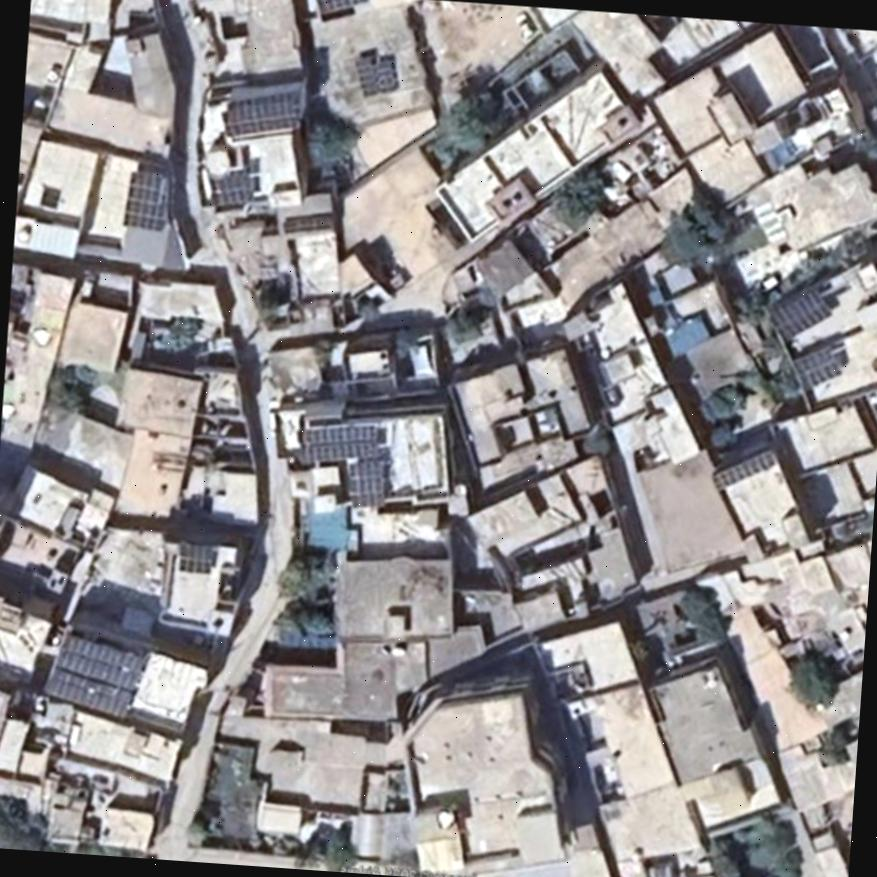Solarpanel: (41, 638, 149, 720), (764, 285, 834, 340), (220, 91, 295, 134), (300, 423, 376, 463), (121, 173, 166, 232), (711, 451, 775, 492), (351, 56, 398, 94), (345, 458, 382, 506), (788, 353, 834, 390), (215, 174, 253, 206), (179, 542, 210, 572), (318, 0, 360, 13)
